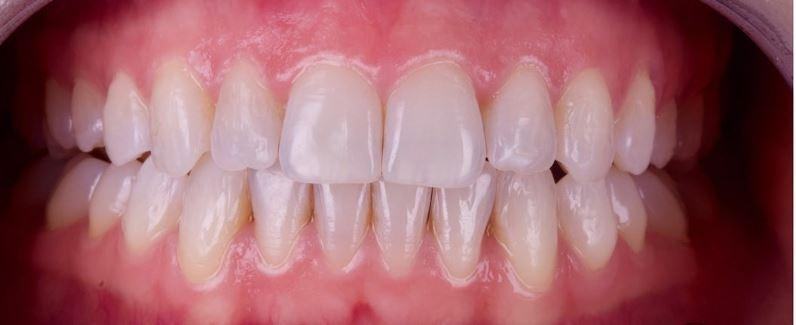1st Molar: (47, 153, 101, 233), (640, 177, 686, 241), (681, 89, 712, 161), (42, 77, 70, 156)
1st Premolar: (562, 173, 618, 275), (121, 164, 177, 253), (617, 67, 657, 175), (103, 68, 148, 164)
2nd Molar: (12, 153, 60, 211), (677, 162, 716, 223), (11, 71, 41, 150)
2nd Premolar: (88, 161, 139, 240), (610, 175, 649, 249), (71, 77, 104, 152), (653, 100, 680, 167)
Canine: (177, 153, 248, 289), (498, 167, 560, 297), (149, 56, 211, 178), (556, 61, 617, 184)
Central Incisor: (279, 59, 383, 185), (384, 56, 484, 187), (371, 177, 432, 283), (315, 177, 370, 275)
Lateral Incisor: (211, 55, 279, 175), (432, 166, 497, 290), (486, 62, 556, 175), (248, 164, 311, 273)
